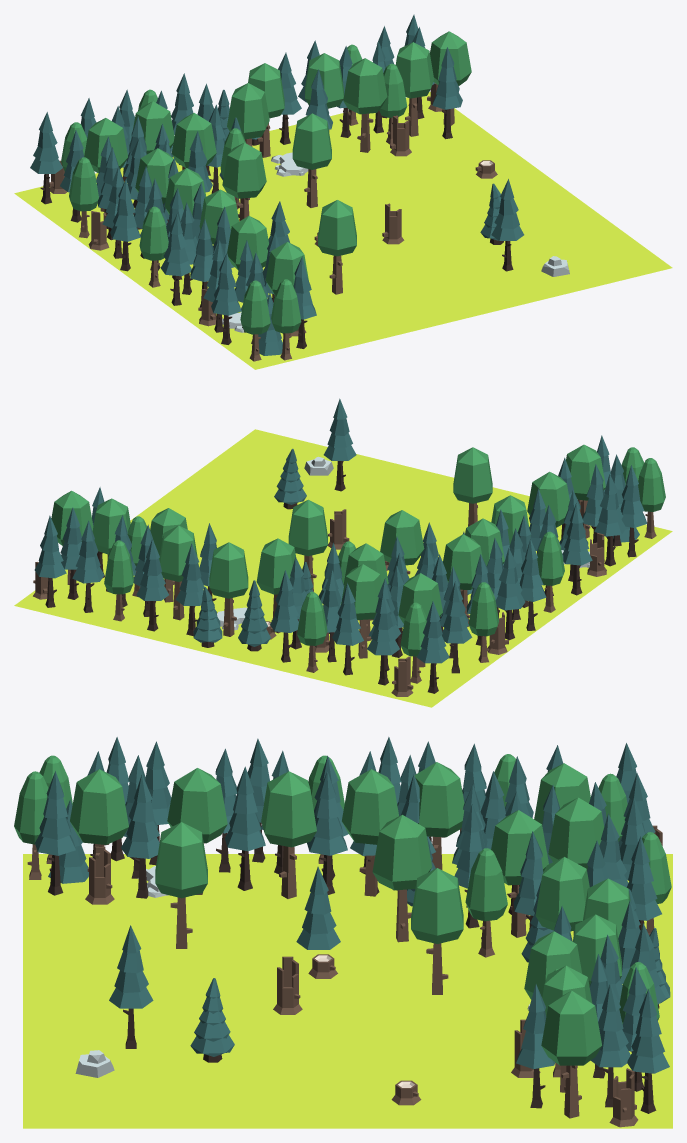
Rendered from Tile_EndMap_Corner_Base.fbx.
The picture shows the model from 3 angles, top to bottom: view 1: azimuth 30°, elevation 25°; view 2: azimuth 150°, elevation 25°; view 3: azimuth 270°, elevation 25°; orthographic projection. The views are drawn at different scales.
Visible parts, largest first — view 1: Plane.012; view 2: Plane.012; view 3: Plane.012.
Boxes of the visible parts, left/top/right/bottom form: Plane.012: left=14, top=14, right=672, bottom=369; Plane.012: left=14, top=398, right=672, bottom=707; Plane.012: left=14, top=737, right=672, bottom=1128.
Bounding box in the file's own units: 255 × 54.77 × 254.
